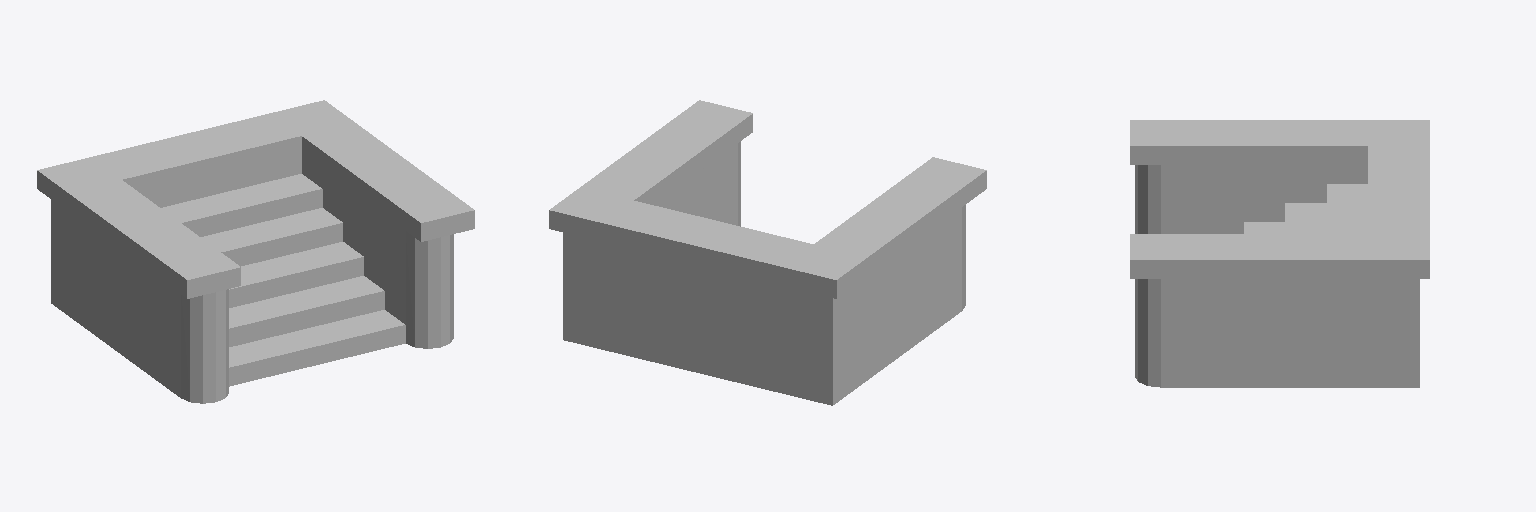
Rendered from stairs_up.obj.
The picture shows the model from 3 angles: view 1: azimuth 30°, elevation 25°; view 2: azimuth 150°, elevation 25°; view 3: azimuth 270°, elevation 25°; orthographic projection.
Parts seen in each view (by area): view 1: Stairs_Cube; view 2: Stairs_Cube; view 3: Stairs_Cube.
Boxes of the visible parts, <box> form: Stairs_Cube: <box>37,100,474,403</box>; Stairs_Cube: <box>549,100,986,405</box>; Stairs_Cube: <box>1130,120,1429,387</box>.
Bounding box in the file's own units: 3.2 × 1.4 × 2.9.